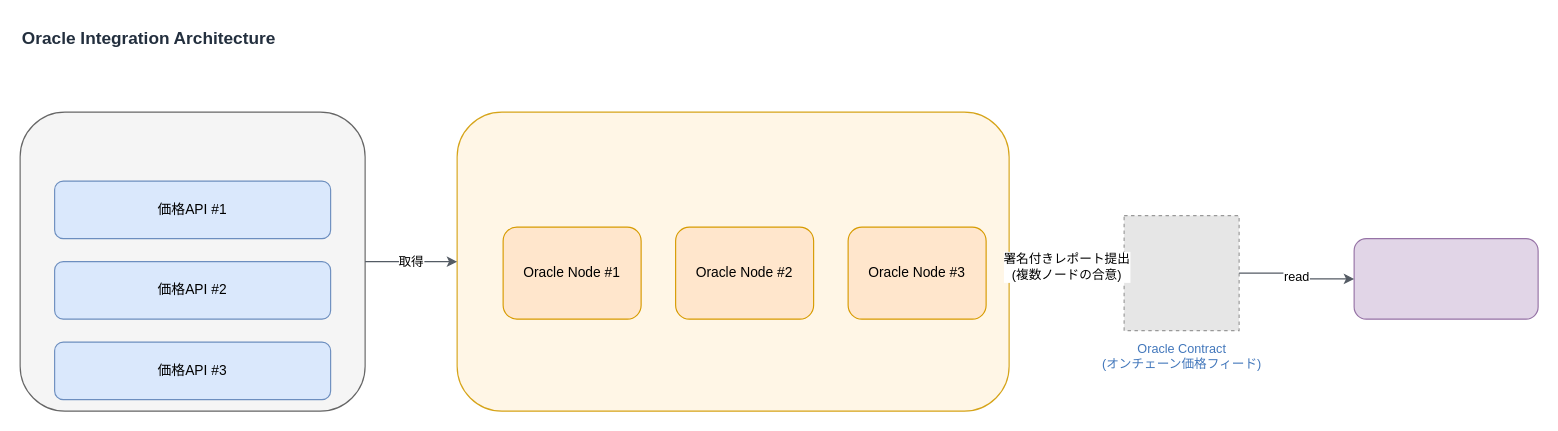
This 1558x431 diagram has some shape labels left out. Grey dashed boxes stand in for pictures. Here are the shapes that lost their labels. From the top down, the box of each, then its label:
(19, 111, 365, 411): 外部データソース
(456, 111, 1009, 411): Oracle Node Network (複数ノードで集約・中央値算出)
(1353, 237, 1538, 319): DeFiプロトコル (価格を参照)
